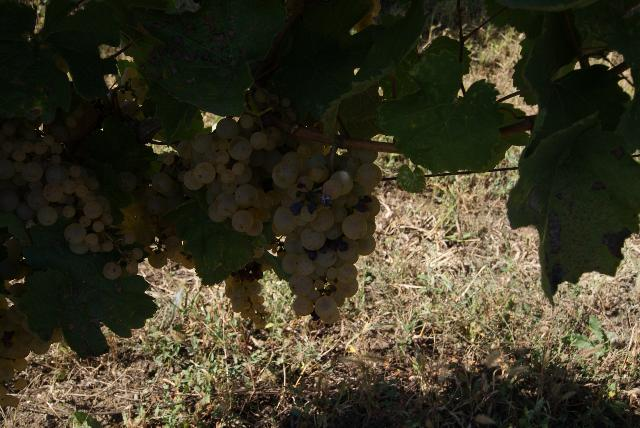grapes: (272, 145, 381, 324), (0, 122, 114, 251), (176, 114, 282, 236)
